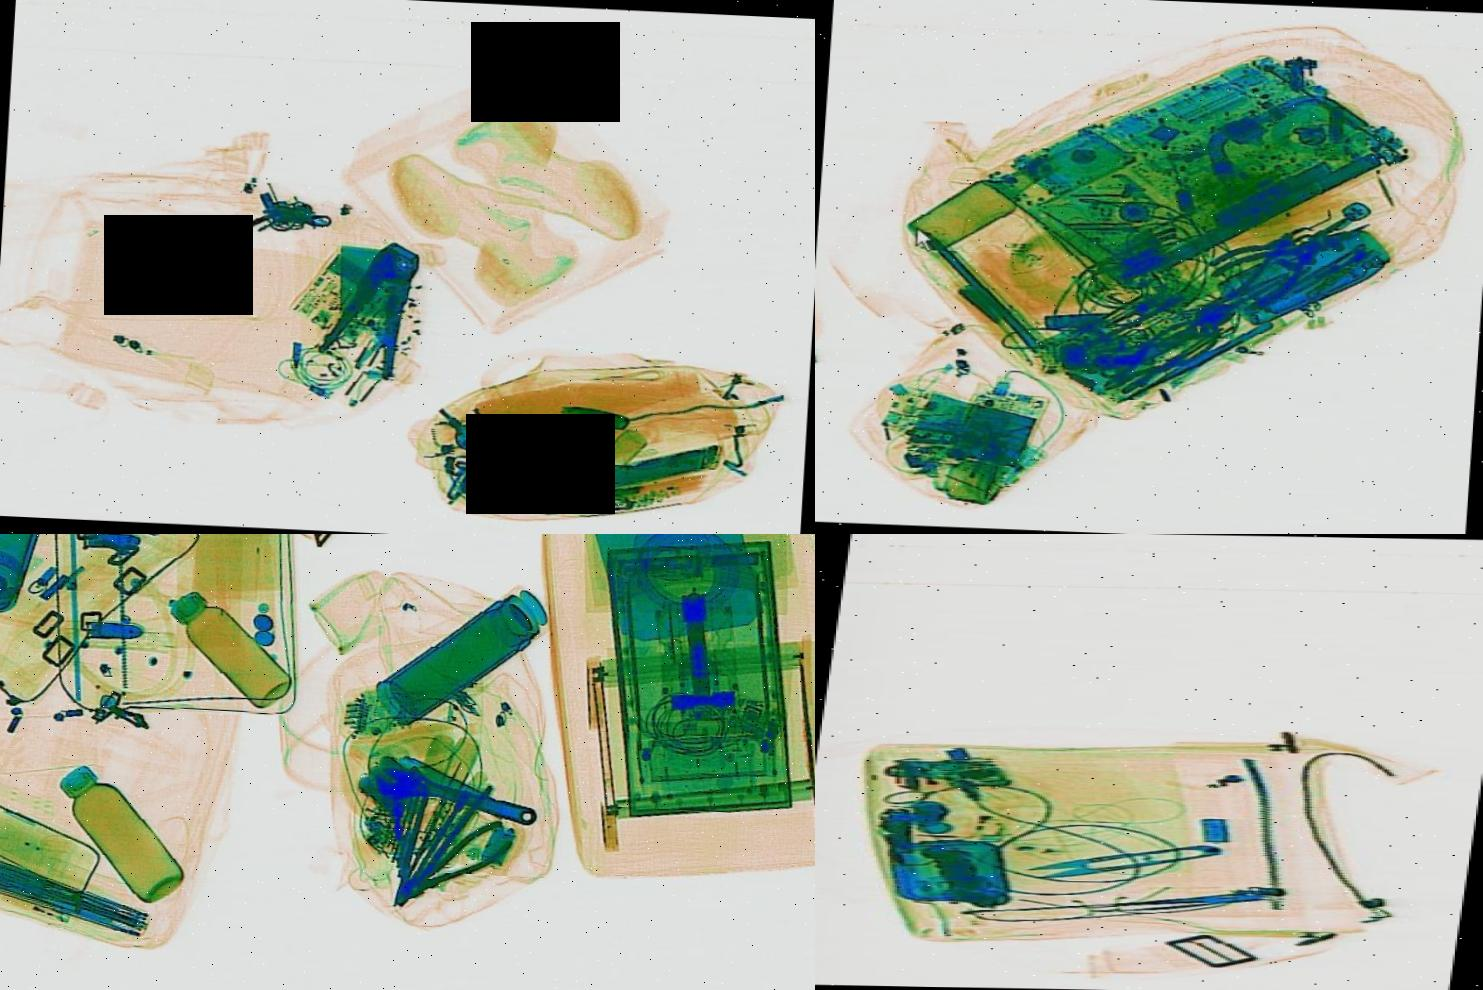Pliers: (1202, 190, 1385, 319), (306, 232, 450, 380), (1078, 306, 1224, 407), (384, 812, 528, 906), (1202, 206, 1324, 295)
Scissors: (1017, 836, 1220, 884)
Wrench: (366, 763, 544, 831)
